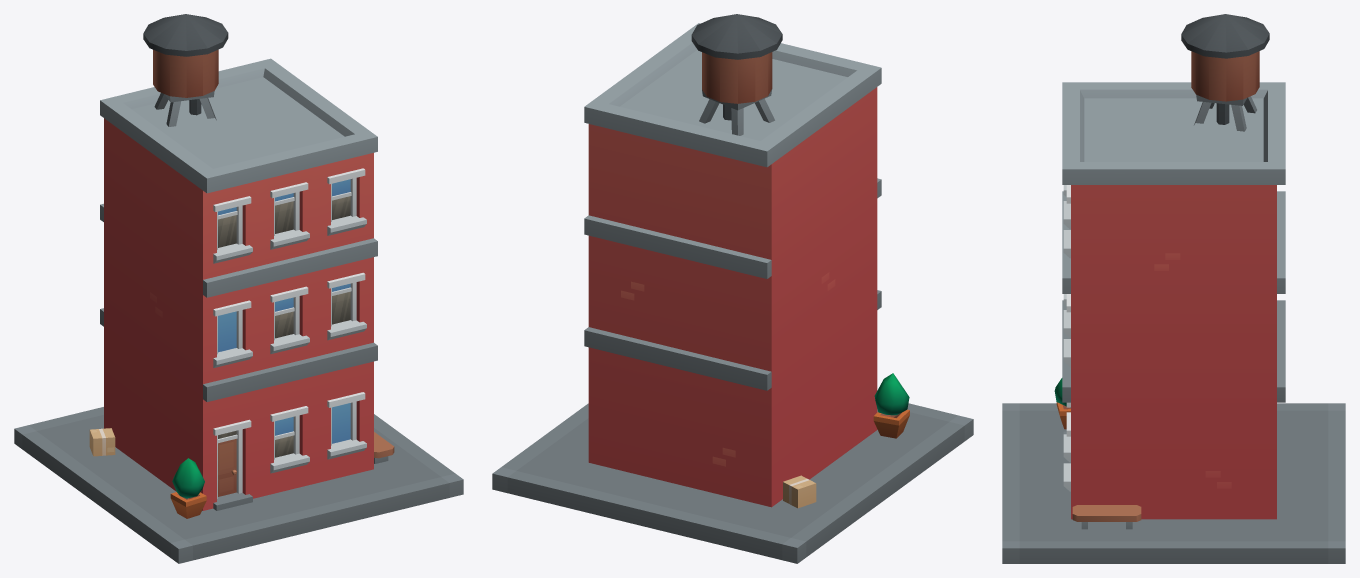
The model's file is Building-g15lpKh4li.glb.
The picture shows the model from 3 angles, left to right: view 1: azimuth 30°, elevation 25°; view 2: azimuth 150°, elevation 25°; view 3: azimuth 270°, elevation 25°; orthographic projection. The views are drawn at different scales.
Visible parts, largest first — view 1: building_C; view 2: building_C; view 3: building_C.
Boxes of the visible parts, x1,y1,x2,y2 form: building_C: (14,14,463,563); building_C: (492,14,973,563); building_C: (1002,14,1345,563).
Bounding box in the file's own units: 2 × 2.98 × 2.
Materials: 1 (1 with a texture image).
